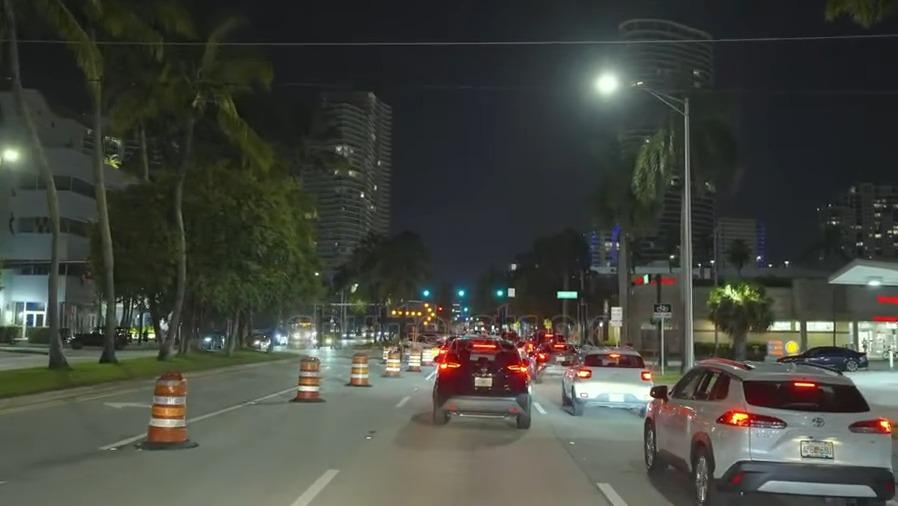arrow traffic sign: (387, 299, 440, 331)
car: (638, 352, 898, 506), (431, 337, 533, 430), (562, 343, 654, 419), (774, 340, 870, 371), (64, 322, 133, 354), (531, 341, 575, 376), (194, 329, 227, 350), (245, 327, 271, 351)
cone: (149, 367, 190, 449), (291, 355, 324, 401), (346, 350, 371, 390), (381, 348, 401, 375), (405, 345, 420, 371)
traffic light: (487, 284, 510, 301), (413, 287, 437, 303), (453, 286, 467, 302)
wheel: (682, 440, 723, 504), (641, 421, 663, 471)
